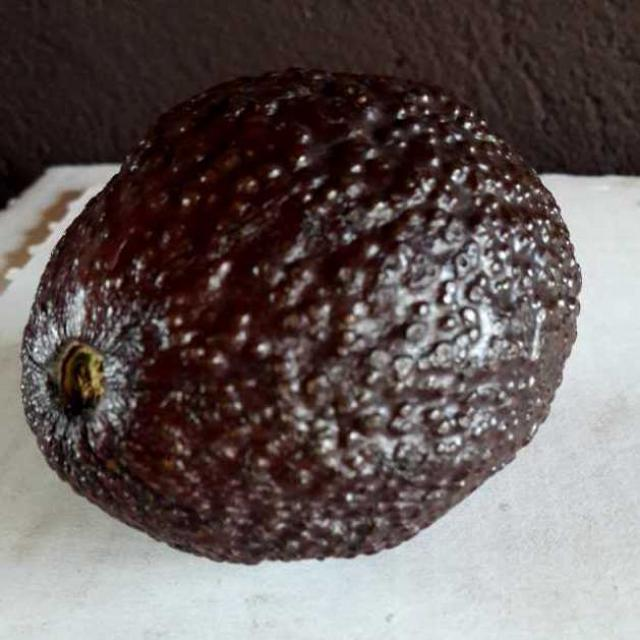avocado: (27, 78, 571, 559)
